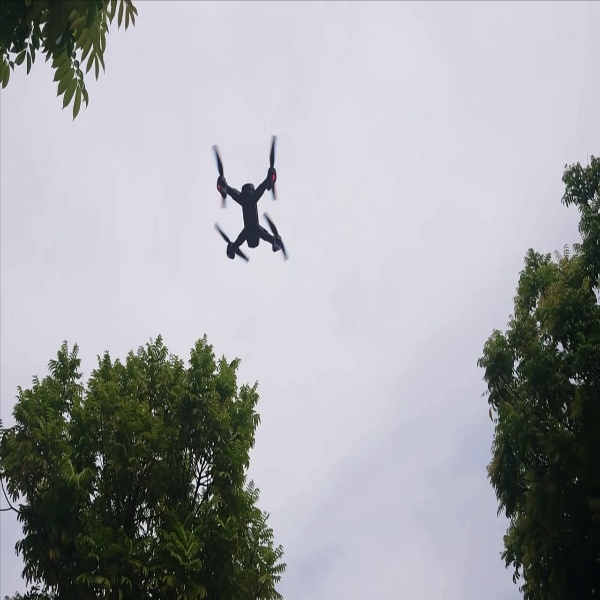drone: (200, 130, 299, 267)
